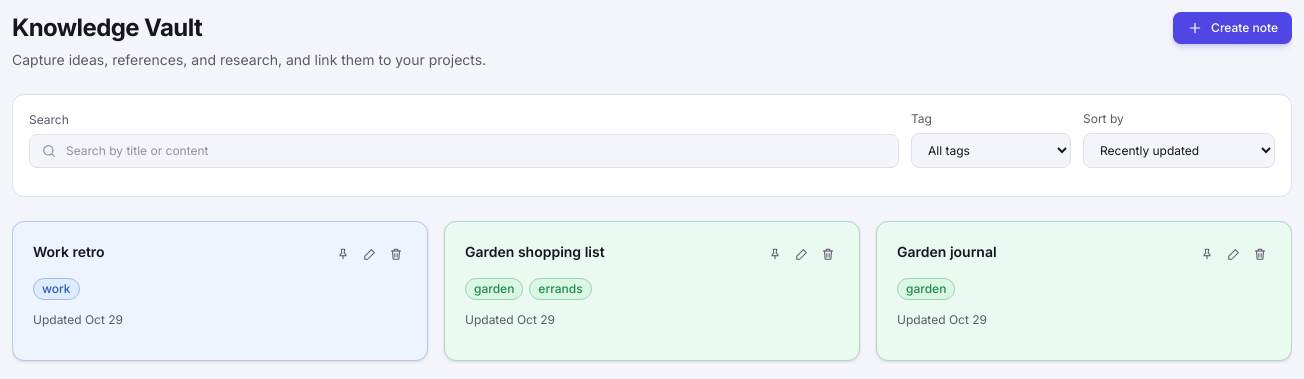
Test: KnowledgeVaultPage › combines search with the tag filter correctly
Check: the heading "Garden journal" is shown, box [897,243,997,260]
Select "garden" in the dropdown named "Filter by tag" at x=991, y=150, box [911,133,1071,168]
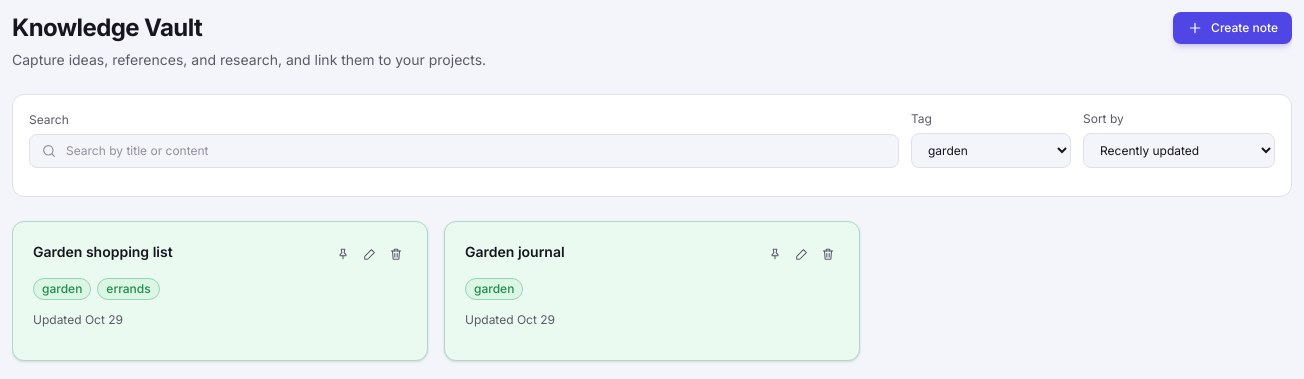
Check: the heading "Garden journal" is shown, box [465,243,565,260]
Check: the link "Work retro" is gone
Type "shopping" into the field named "Search notes" at x=464, y=151, box [29,134,899,168]
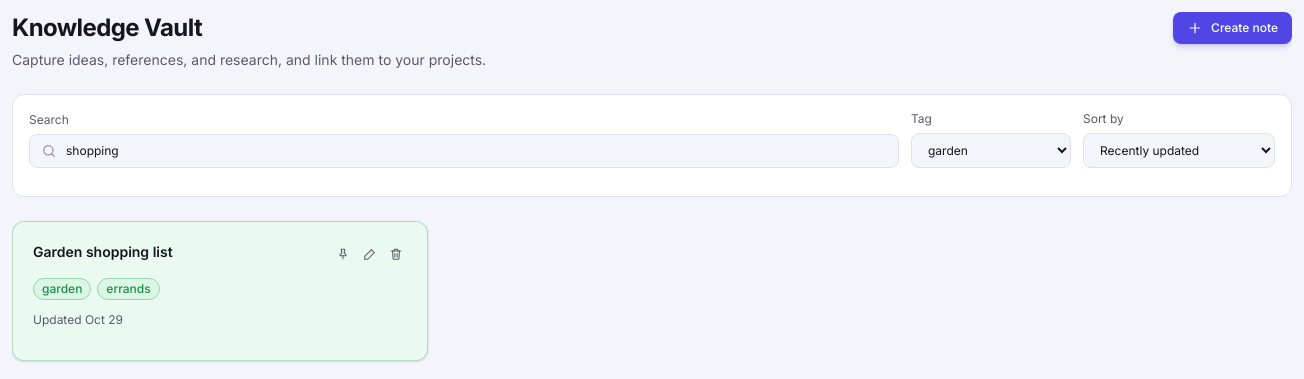
Check: the heading "Garden shopping list" is shown, box [33,243,173,260]
Check: the link "Garden journal" is gone
